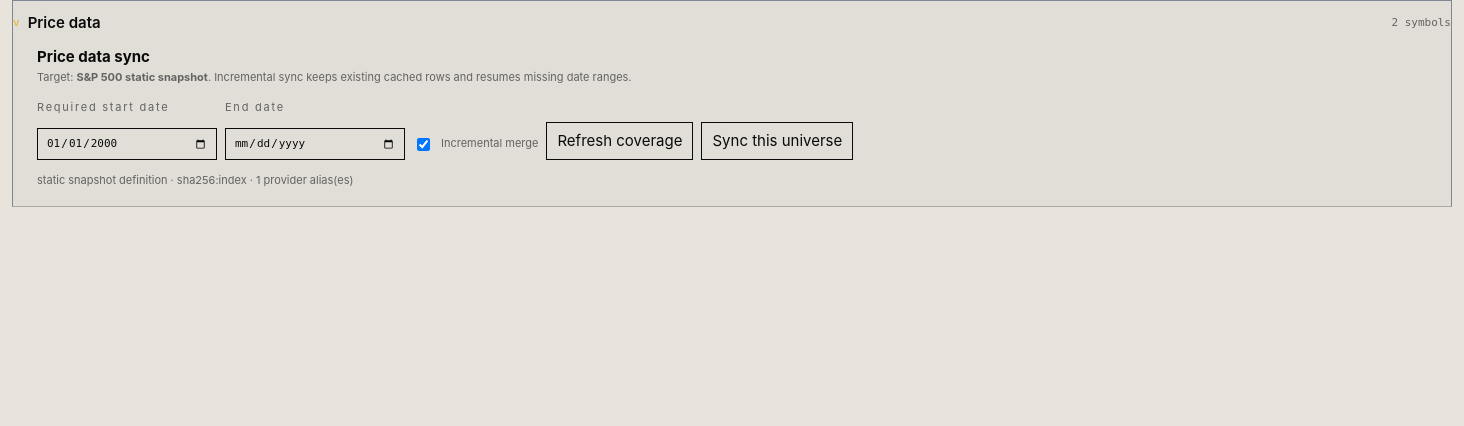
Scenario: UniverseDataSync › syncs a loaded universe by pinned identity and refreshes its readiness
Check: the text with test id "sync-universe-definition" shows "sha256:index", box [168,173,247,187]
Click the button with test id "sync-universe": (777,141) [702,122,853,160]
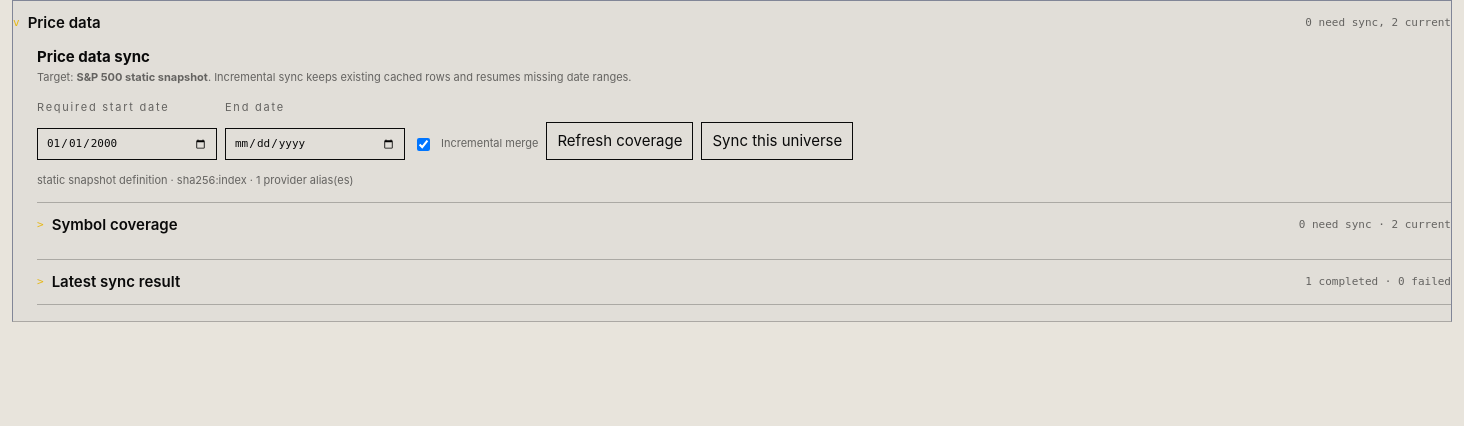
Click the button "> Latest sync result 1 completed · 0 failed": (116,281) [37,260,1451,304]
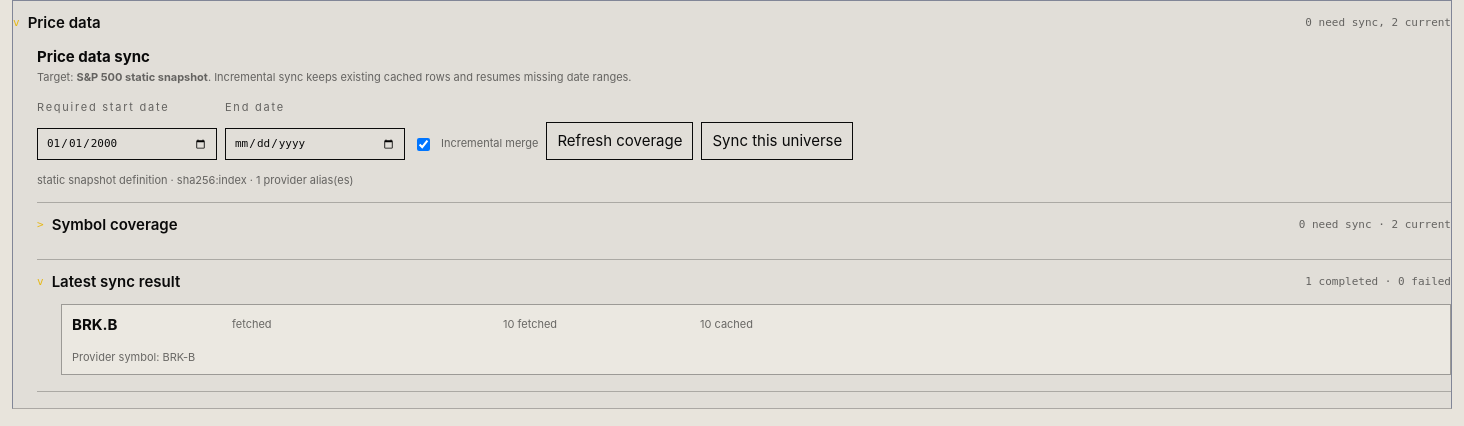
Check: the list with test id "sync-results" shows "Provider symbol: BRK-B", box [61,304,1451,375]
